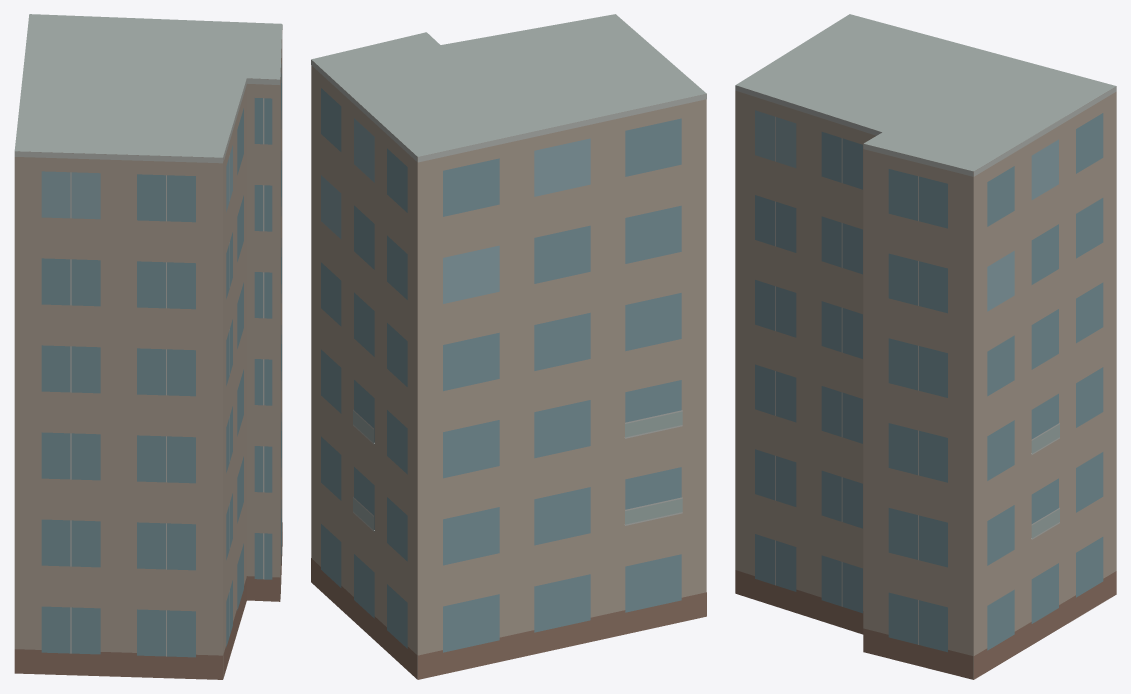
The model's file is survey-upis-32730450.glb.
3 views of the same model, side by side, from view 1: azimuth 30°, elevation 25°; view 2: azimuth 150°, elevation 25°; view 3: azimuth 270°, elevation 25° (orthographic). The views are drawn at different scales.
Visible parts, largest first — view 1: survey-upis-32730450.tmp; view 2: survey-upis-32730450.tmp; view 3: survey-upis-32730450.tmp.
Boxes of the visible parts, bbox=[...] form: survey-upis-32730450.tmp: bbox=[14, 14, 282, 679]; survey-upis-32730450.tmp: bbox=[311, 14, 706, 679]; survey-upis-32730450.tmp: bbox=[735, 14, 1116, 679].
Bounding box in the file's own units: 15.22 × 22.9 × 15.57.
